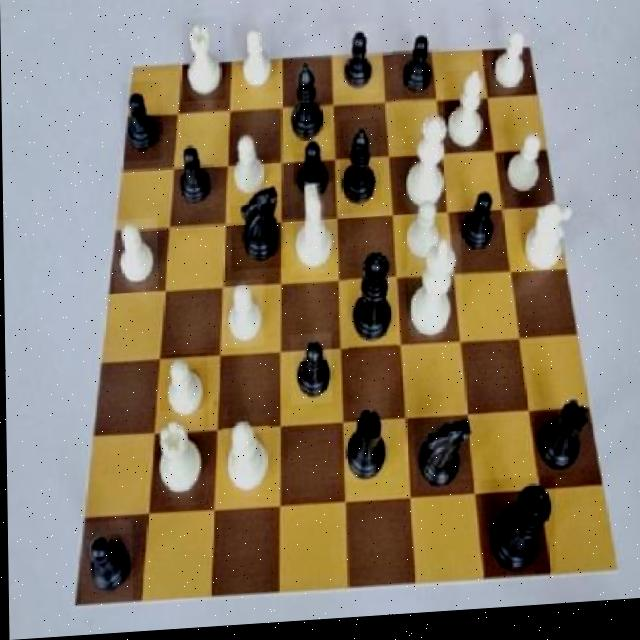bishop: (282, 57, 331, 159), (339, 123, 381, 219)
black-bishop: (480, 484, 555, 584)
black-king: (410, 416, 468, 504), (230, 184, 285, 274)
black-knight: (78, 521, 132, 604), (391, 35, 439, 110), (333, 28, 380, 101), (457, 191, 501, 267), (121, 83, 162, 164), (173, 138, 214, 217), (292, 135, 334, 210), (289, 337, 330, 409)
black-pawn: (346, 250, 396, 357)
black-queen: (531, 404, 595, 495), (342, 406, 391, 488)
black-rook: (221, 418, 269, 513), (443, 76, 490, 161)
white-bishop: (406, 241, 461, 347)
white-king: (514, 198, 575, 285), (290, 187, 334, 280)
white-knight: (158, 355, 208, 434), (225, 130, 270, 209), (113, 221, 158, 297), (500, 139, 544, 214), (233, 26, 277, 98), (401, 200, 442, 275), (488, 35, 532, 103), (220, 282, 263, 351)
white-pawn: (395, 116, 452, 223)
white-queen: (151, 411, 203, 506), (182, 19, 225, 105)
